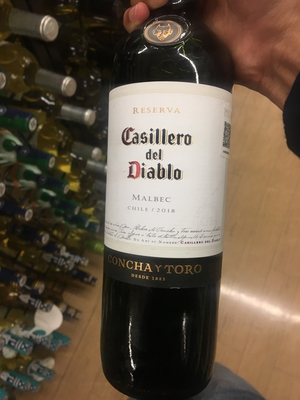casillero del diablo malbec: (95, 6, 241, 400)
